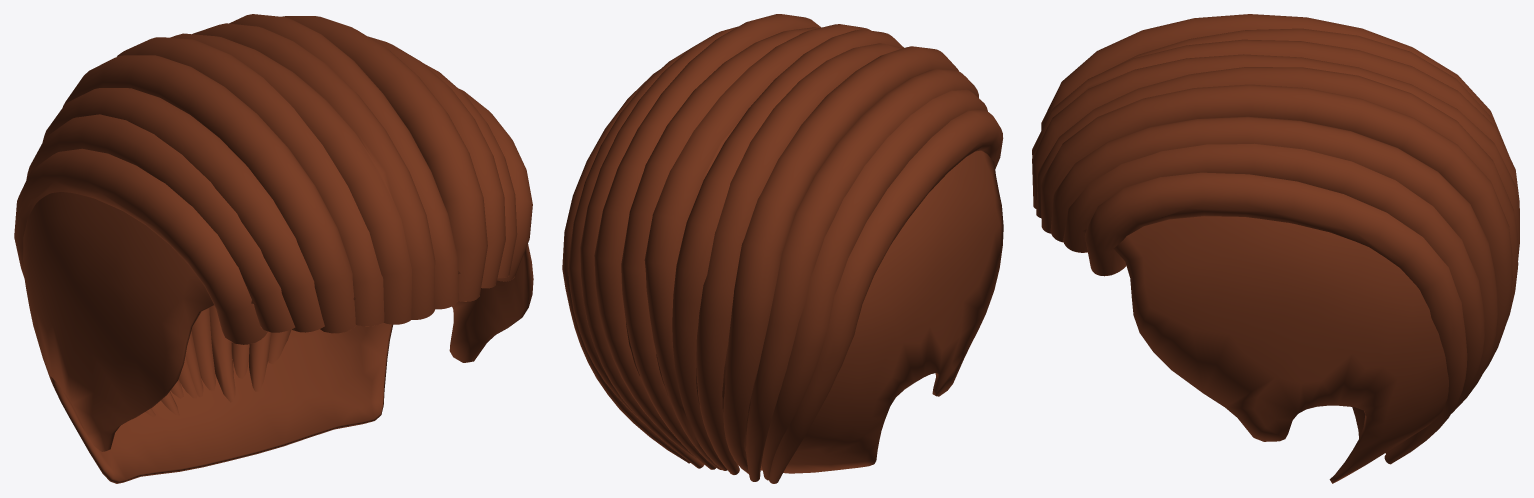
Rendered from hair-1-3883ad77.glb.
3 views of the same model, side by side, from view 1: azimuth 30°, elevation 25°; view 2: azimuth 150°, elevation 25°; view 3: azimuth 270°, elevation 25° (orthographic). The views are drawn at different scales.
Parts seen in each view (by area): view 1: hair_1.001; view 2: hair_1.001; view 3: hair_1.001.
Part boxes in pixels (<box>): hair_1.001: <box>14,14,533,483</box>; hair_1.001: <box>562,14,1003,483</box>; hair_1.001: <box>1032,14,1519,483</box>.
Bounding box in the file's own units: 1.53 × 1.63 × 1.81.
